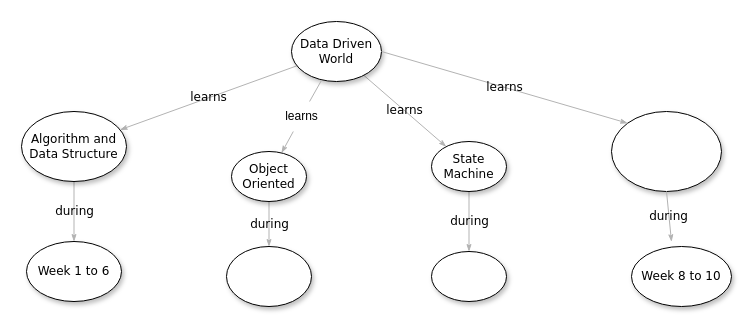
Some shapes in this 755 by 331 pixel diagram are drawn without their labels. The centre of each missing label's shape, as x and y in pixels:
"Introductory Machine Learning" goes at [667,152].
"Week 12" goes at [469,277].
"Week 4 to 6" goes at [270,278].
